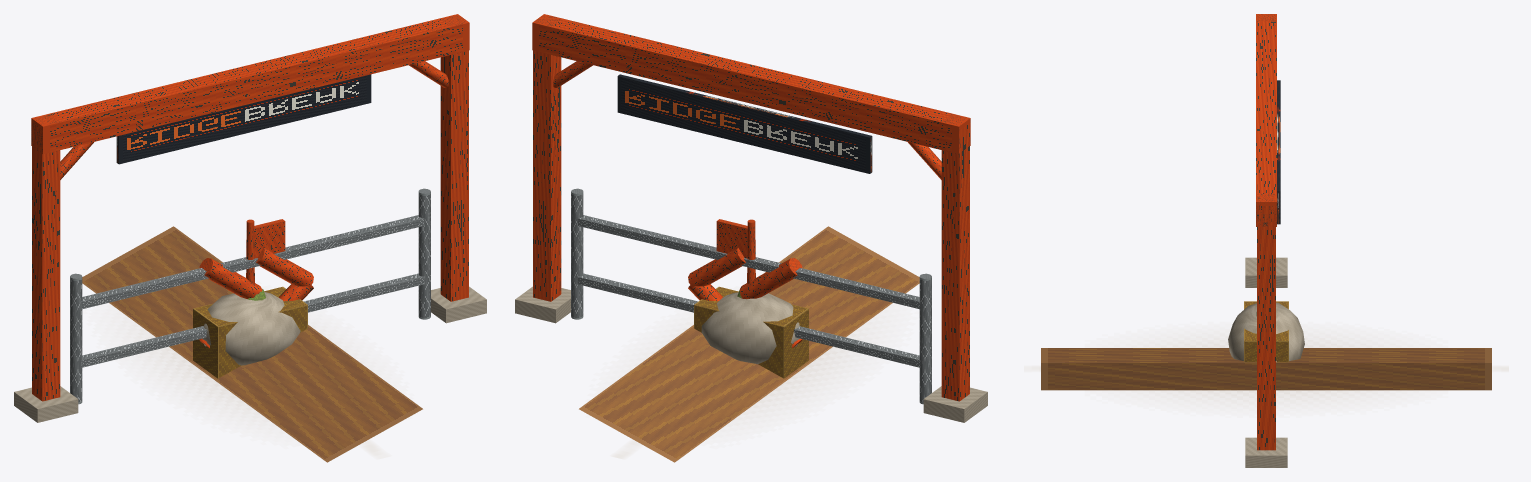
File: track.glb
The picture shows the model from 3 angles, left to right: view 1: azimuth 30°, elevation 25°; view 2: azimuth 150°, elevation 25°; view 3: azimuth 270°, elevation 25°; orthographic projection. The views are drawn at different scales.
Visible parts, largest first — view 1: start_arch, hero_berm, fence_panel, arch_banner, rock, arch_footing, chevron, hay_bale, marker_stake, landing_patch; view 2: start_arch, hero_berm, fence_panel, arch_banner, rock, arch_footing, chevron, hay_bale, marker_stake, landing_patch; view 3: hero_berm, start_arch, rock, arch_footing, hay_bale, landing_patch, arch_banner.
Part boxes in pixels (<box>): start_arch: <box>31,14,469,401</box>; hero_berm: <box>82,226,422,462</box>; fence_panel: <box>70,188,430,404</box>; arch_banner: <box>116,74,371,164</box>; rock: <box>202,292,300,365</box>; arch_footing: <box>14,286,486,422</box>; chevron: <box>199,248,313,348</box>; hay_bale: <box>193,286,307,378</box>; marker_stake: <box>246,219,285,284</box>; landing_patch: <box>149,334,251,409</box>; start_arch: <box>532,14,970,401</box>; hero_berm: <box>579,226,919,462</box>; fence_panel: <box>571,188,931,404</box>; arch_banner: <box>617,74,872,173</box>; rock: <box>701,292,799,364</box>; arch_footing: <box>515,286,987,422</box>; chevron: <box>688,248,802,348</box>; hay_bale: <box>694,286,808,378</box>; marker_stake: <box>716,219,755,284</box>; landing_patch: <box>754,334,855,407</box>; hero_berm: <box>1041,348,1491,390</box>; start_arch: <box>1256,14,1276,450</box>; rock: <box>1228,302,1304,362</box>; arch_footing: <box>1245,257,1287,467</box>; hay_bale: <box>1244,301,1288,362</box>; landing_patch: <box>1173,340,1359,399</box>; arch_banner: <box>1277,80,1280,224</box>.
Size of the model in its own units: 7.48 by 4.67 by 8.
Materials: 13 (12 with a texture image).
